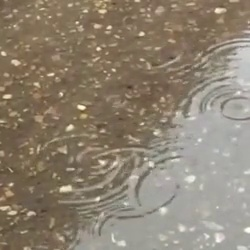drop: (91, 147, 178, 218), (180, 75, 250, 128), (89, 204, 149, 247), (198, 38, 250, 86), (130, 34, 182, 70), (76, 146, 120, 175)
